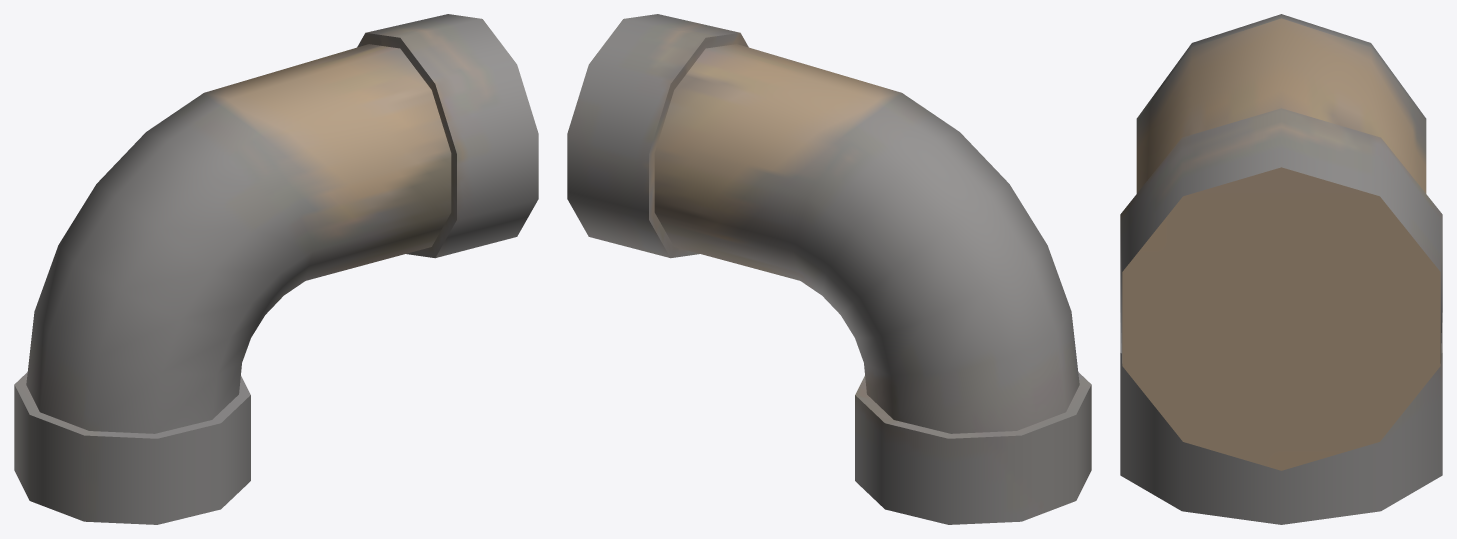
The model's file is props_mining_ceiling_pipe_16_up_thick.glb.
3 renders of one model, left to right at view 1: azimuth 30°, elevation 25°; view 2: azimuth 150°, elevation 25°; view 3: azimuth 270°, elevation 25°, orthographic. The views are drawn at different scales.
Visible parts, largest first — view 1: models/props_mining/ceiling_pipe_16_up_thick; view 2: models/props_mining/ceiling_pipe_16_up_thick; view 3: models/props_mining/ceiling_pipe_16_up_thick.
Boxes of the visible parts, <box> form: models/props_mining/ceiling_pipe_16_up_thick: <box>14,14,538,524</box>; models/props_mining/ceiling_pipe_16_up_thick: <box>567,14,1091,524</box>; models/props_mining/ceiling_pipe_16_up_thick: <box>1120,14,1442,524</box>.
Bounding box in the file's own units: 22 × 17.3 × 9.51.
1 material, 1 textured.
